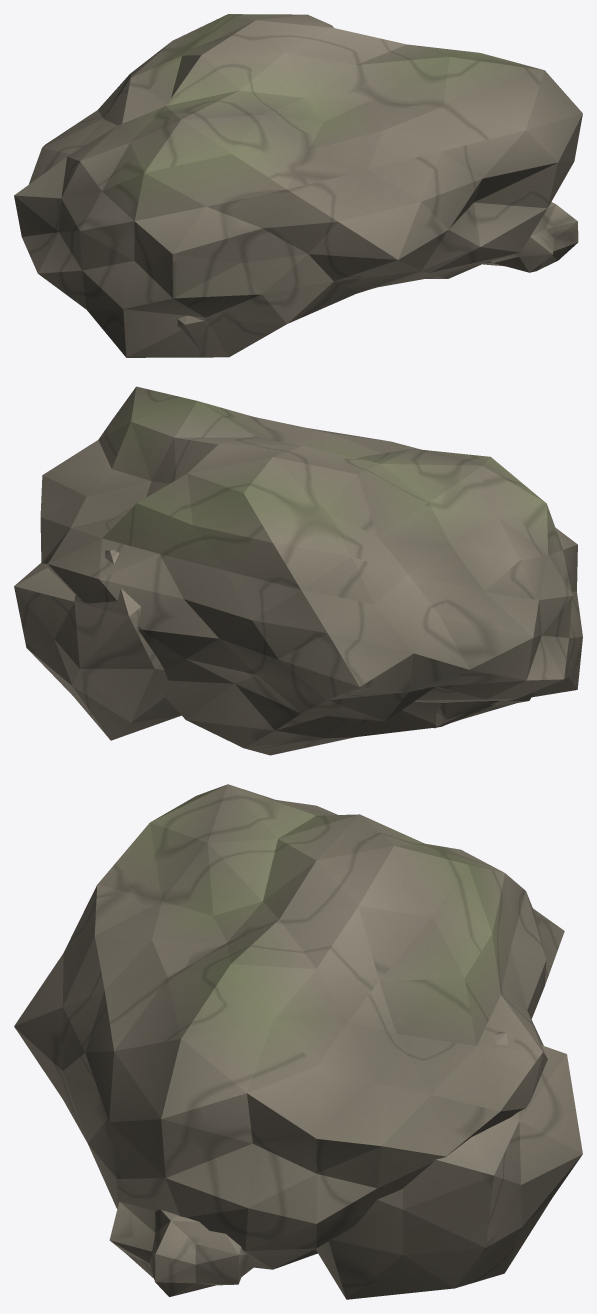
File: rock_b-9aabgg1r.glb
The picture shows the model from 3 angles, top to bottom: view 1: azimuth 30°, elevation 25°; view 2: azimuth 150°, elevation 25°; view 3: azimuth 270°, elevation 25°; orthographic projection. The views are drawn at different scales.
Visible parts, largest first — view 1: Rock; view 2: Rock; view 3: Rock.
Part boxes in pixels (x1=…): Rock: x1=14, y1=14, x2=582, y2=357; Rock: x1=14, y1=386, x2=582, y2=755; Rock: x1=14, y1=784, x2=582, y2=1299.
Size of the model in its own units: 0.8824 by 0.4796 by 0.6592.
1 material, 1 textured.
